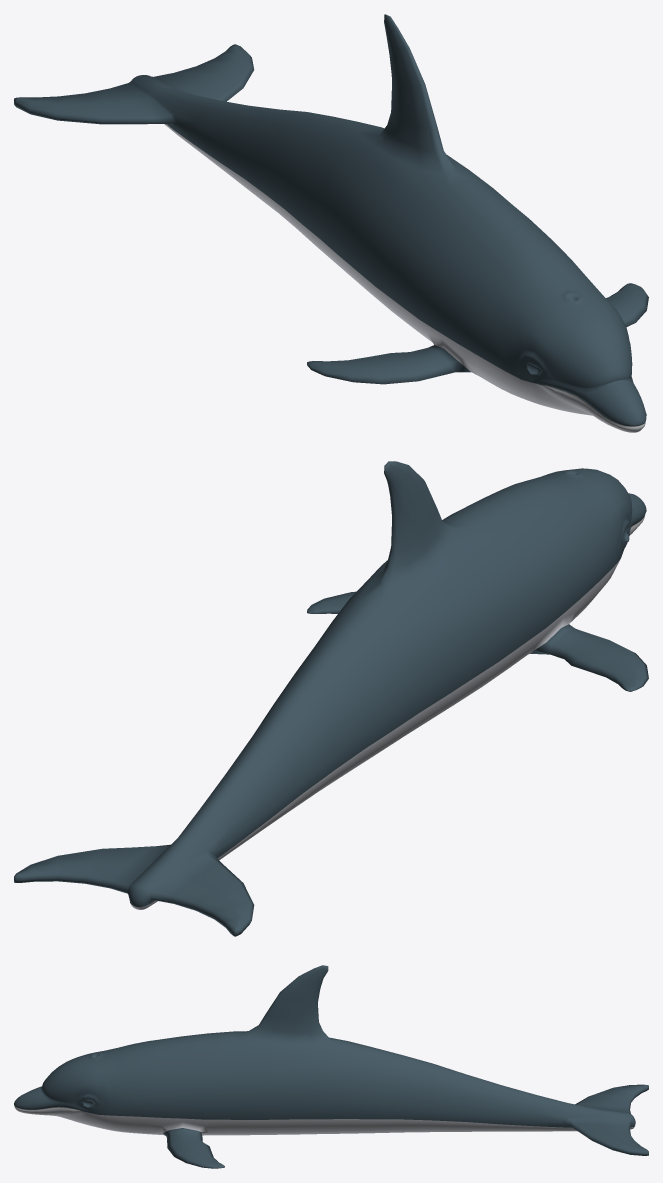
File: dolphin_dolphin_triangulated.obj
3 renders of one model, top to bottom at view 1: azimuth 30°, elevation 25°; view 2: azimuth 150°, elevation 25°; view 3: azimuth 270°, elevation 25°, orthographic. The views are drawn at different scales.
Bounding box in the file's own units: 0.9751 × 0.7552 × 2.62.
